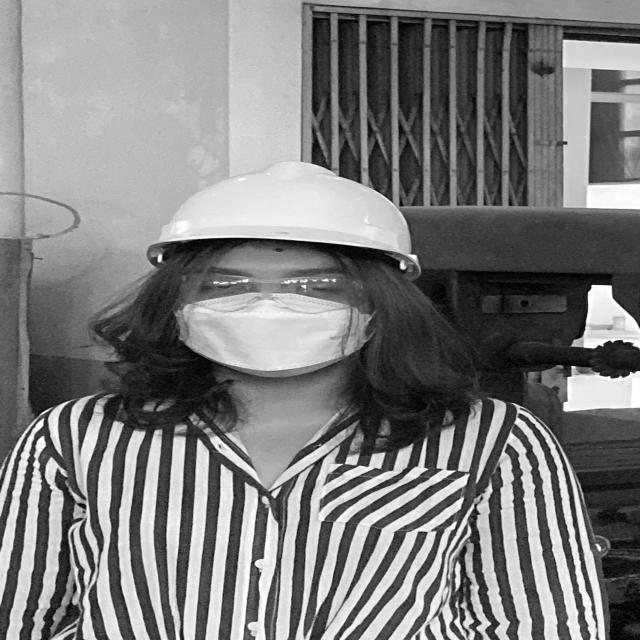face_mask: (172, 263, 382, 376)
glasses: (160, 270, 378, 314)
head_helmet: (141, 156, 417, 268)
person: (5, 148, 580, 640)
